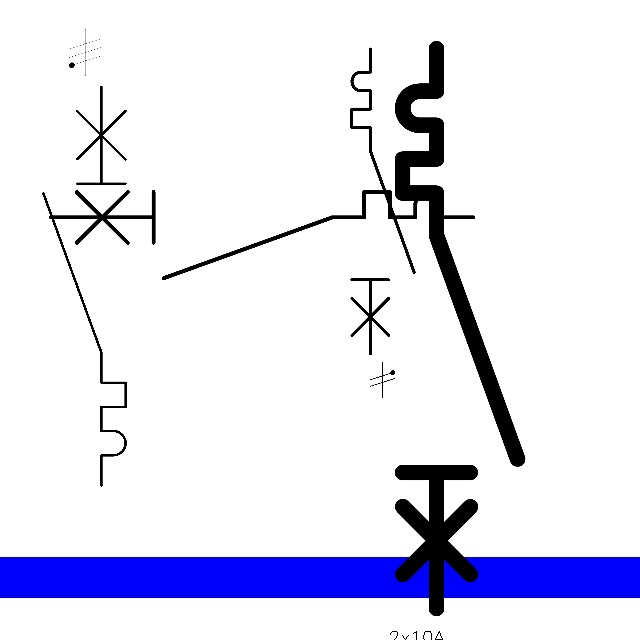interruptor_termomagnetico: (388, 34, 532, 623), (40, 181, 484, 289), (33, 76, 136, 496), (344, 41, 422, 361)
